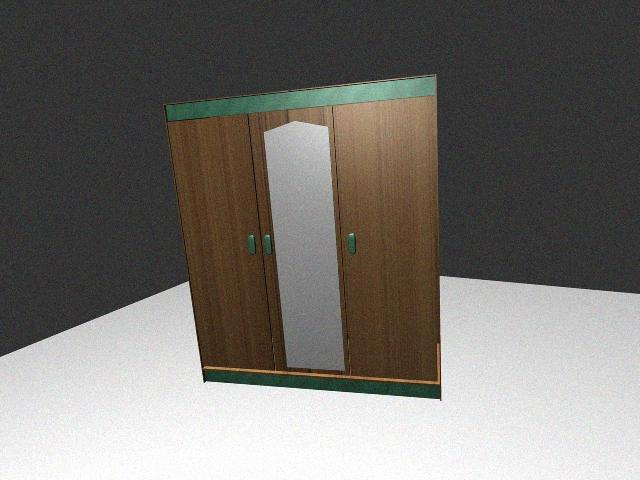cabinet_door: (342, 101, 436, 379), (262, 110, 342, 374), (186, 119, 262, 370)
handle: (345, 229, 362, 264), (262, 227, 276, 261), (246, 229, 259, 261)
